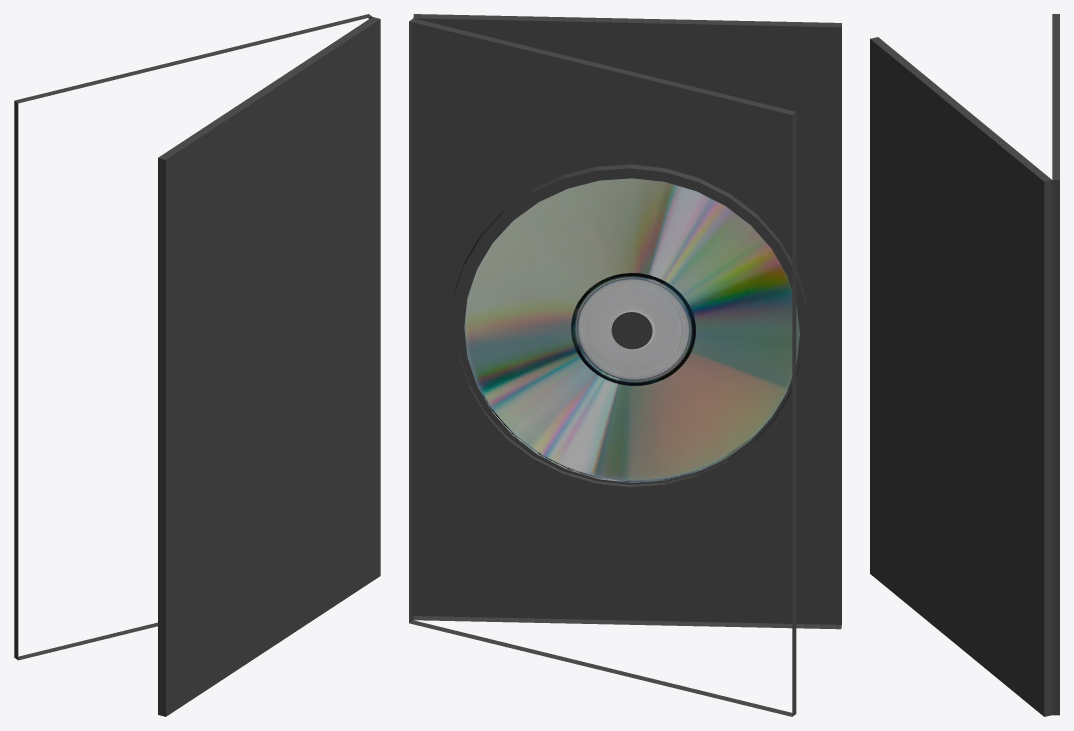
Rendered from dvd-transformed.glb.
3 views of the same model, side by side, from view 1: azimuth 30°, elevation 25°; view 2: azimuth 150°, elevation 25°; view 3: azimuth 270°, elevation 25° (orthographic). The views are drawn at different scales.
Parts seen in each view (by area): view 1: Plane.001; view 2: Plane.001; view 3: Plane.001.
Part boxes in pixels (x1,y1,x2,y2): Plane.001: [14, 14, 380, 716]; Plane.001: [409, 14, 841, 716]; Plane.001: [870, 14, 1059, 716].
Bounding box in the file's own units: 1.78 × 2.65 × 0.8503.
2 materials, 1 textured.
